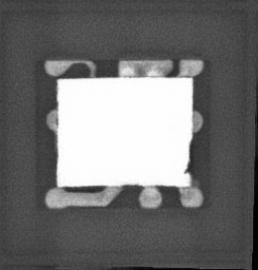DIE_BROKEN: (183, 138, 193, 177)
